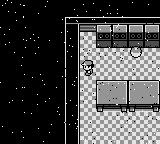main: (82, 61, 94, 74)
no-caminable: (1, 0, 160, 143), (65, 24, 79, 144), (97, 25, 159, 47), (64, 17, 160, 31), (97, 81, 128, 111), (129, 81, 159, 111)
poke-ball: (130, 47, 142, 57)
